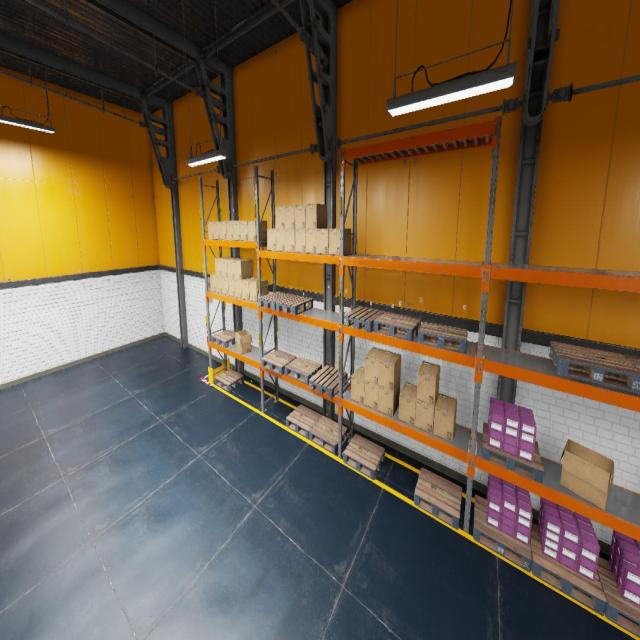box: (560, 439, 614, 510), (433, 393, 457, 442), (417, 361, 440, 405), (415, 394, 438, 434), (379, 351, 401, 390), (398, 382, 417, 426), (365, 347, 386, 385), (378, 380, 400, 416), (329, 229, 351, 255), (351, 366, 365, 404), (305, 204, 327, 228), (249, 278, 268, 302), (235, 329, 252, 354), (364, 381, 378, 410), (234, 259, 253, 280), (248, 220, 267, 240), (242, 277, 257, 300), (227, 258, 244, 278), (221, 258, 238, 277), (215, 257, 232, 276), (316, 229, 328, 254), (306, 229, 316, 253), (295, 229, 305, 252), (295, 205, 305, 228), (284, 205, 294, 228), (285, 229, 295, 252), (275, 206, 285, 228), (276, 229, 285, 251), (267, 228, 276, 250), (240, 220, 248, 240), (233, 220, 240, 240), (235, 279, 242, 298), (228, 278, 235, 297), (226, 221, 233, 240), (213, 221, 220, 239), (210, 273, 216, 292), (222, 277, 228, 295), (216, 276, 222, 294), (220, 221, 226, 239), (208, 221, 214, 239)
pallets: (530, 522, 606, 616), (549, 341, 640, 393), (473, 494, 532, 572), (482, 422, 544, 483), (596, 556, 640, 638), (414, 467, 462, 530), (343, 434, 385, 480), (418, 322, 468, 353), (310, 416, 348, 454), (374, 312, 421, 341), (286, 404, 322, 439), (309, 365, 347, 398), (284, 356, 322, 385), (344, 306, 385, 332), (261, 350, 297, 375), (276, 295, 313, 315), (258, 291, 293, 310), (214, 369, 243, 391), (211, 329, 236, 348), (624, 355, 640, 371)
